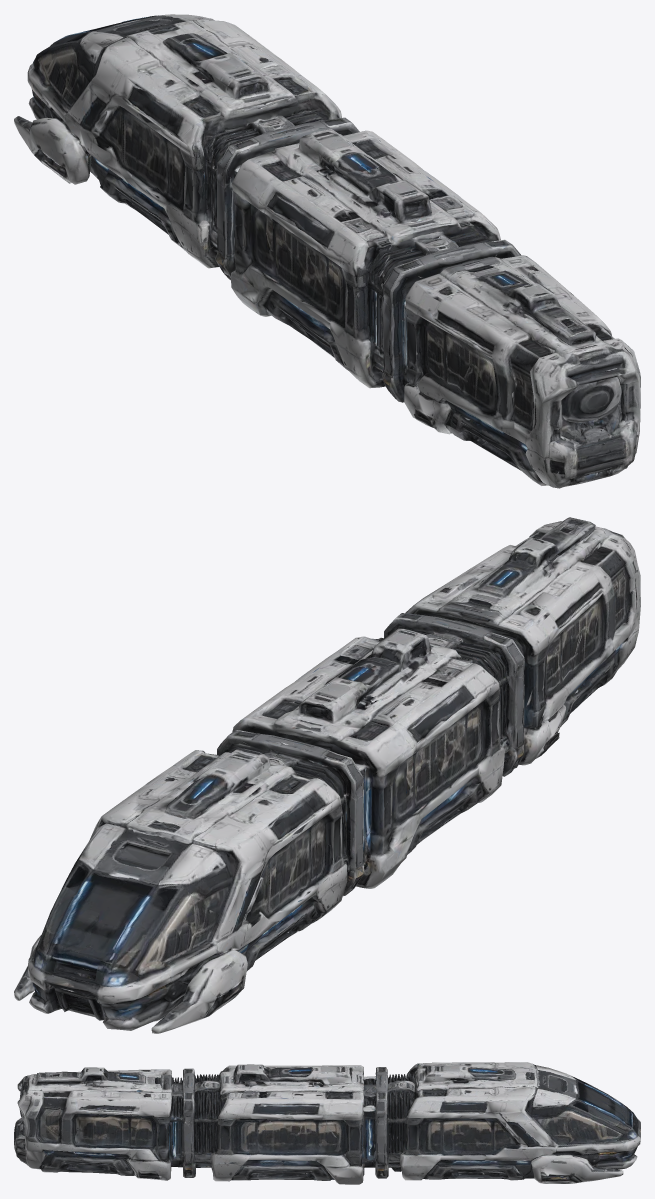
The model's file is tide-train.glb.
3 renders of one model, top to bottom at view 1: azimuth 30°, elevation 25°; view 2: azimuth 150°, elevation 25°; view 3: azimuth 270°, elevation 25°, orthographic. The views are drawn at different scales.
Parts seen in each view (by area): view 1: body_mesh; view 2: body_mesh; view 3: body_mesh.
Part boxes in pixels (bbox=[...]): body_mesh: bbox=[14, 14, 640, 488]; body_mesh: bbox=[14, 517, 640, 1033]; body_mesh: bbox=[14, 1062, 640, 1184].
Size of the model in its own units: 4.25 by 3.84 by 21.5.
Materials: 1 (1 with a texture image).
